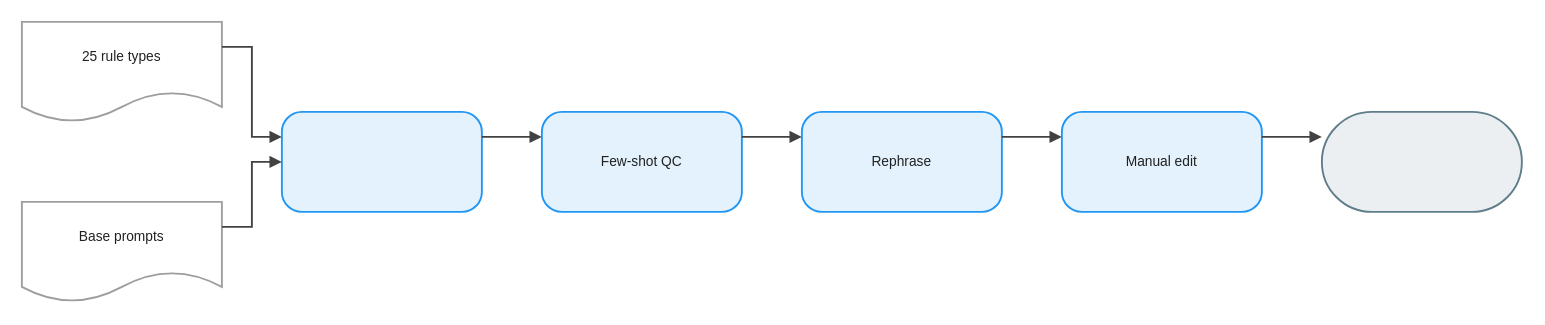
This 1545x325 diagram has some shape labels left out. Each missing label, with the centre of its shape:
541 prompts: [1421,161]
Add 1-3 rules: [381,161]
